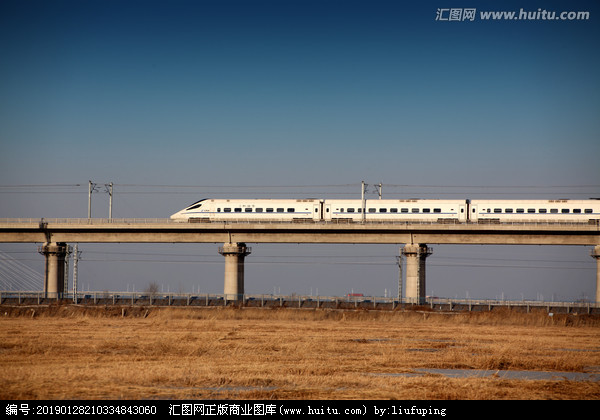hsrw: (168, 194, 599, 228)
